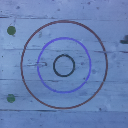Axe Tip: (124, 41, 128, 43)
